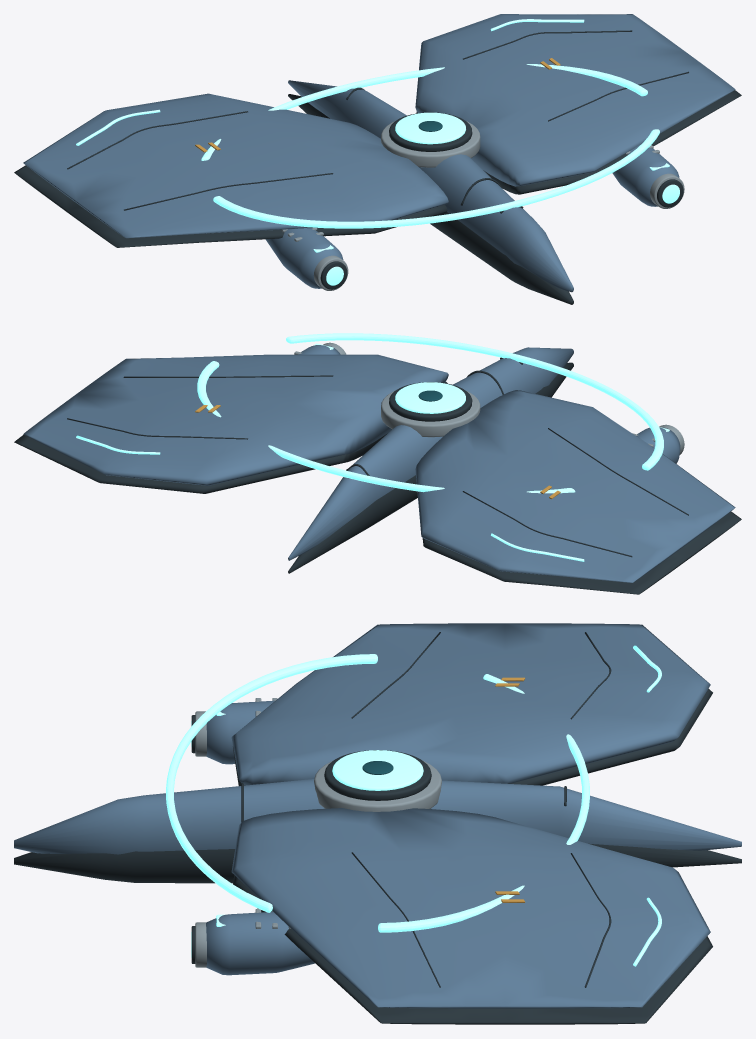
Rendered from boss-5-p2.glb.
The picture shows the model from 3 angles, top to bottom: view 1: azimuth 30°, elevation 25°; view 2: azimuth 150°, elevation 25°; view 3: azimuth 270°, elevation 25°; orthographic projection. The views are drawn at different scales.
Parts seen in each view (by area): view 1: SM_Wing_Left, SM_Wing_Right, SM_Hull, SM_Shield_Left, SM_Engine_Left, SM_Engine_Right, SM_Shield_Right; view 2: SM_Wing_Left, SM_Wing_Right, SM_Hull, SM_Shield_Left, SM_Shield_Right, SM_Engine_Left, SM_Engine_Right; view 3: SM_Wing_Right, SM_Wing_Left, SM_Hull, SM_Engine_Right, SM_Shield_Left, SM_Engine_Left, SM_Shield_Right.
Part boxes in pixels (x1,y1,x2,y2): SM_Wing_Left: [14, 93, 448, 247]; SM_Wing_Right: [415, 14, 741, 194]; SM_Hull: [288, 80, 573, 304]; SM_Shield_Left: [213, 129, 659, 228]; SM_Engine_Left: [265, 228, 348, 290]; SM_Engine_Right: [612, 144, 684, 208]; SM_Shield_Right: [201, 64, 647, 160]; SM_Wing_Left: [415, 390, 741, 594]; SM_Wing_Right: [14, 354, 448, 493]; SM_Hull: [288, 347, 573, 573]; SM_Shield_Left: [286, 333, 663, 470]; SM_Shield_Right: [197, 361, 575, 493]; SM_Engine_Left: [632, 424, 684, 463]; SM_Engine_Right: [294, 342, 346, 354]; SM_Wing_Right: [231, 808, 712, 1024]; SM_Wing_Left: [231, 623, 712, 785]; SM_Hull: [14, 750, 741, 883]; SM_Engine_Right: [191, 909, 315, 975]; SM_Shield_Left: [166, 654, 377, 912]; SM_Engine_Left: [191, 698, 277, 764]; SM_Shield_Right: [378, 674, 589, 932].
Size of the model in its own units: 8.92 by 1.2 by 7.
